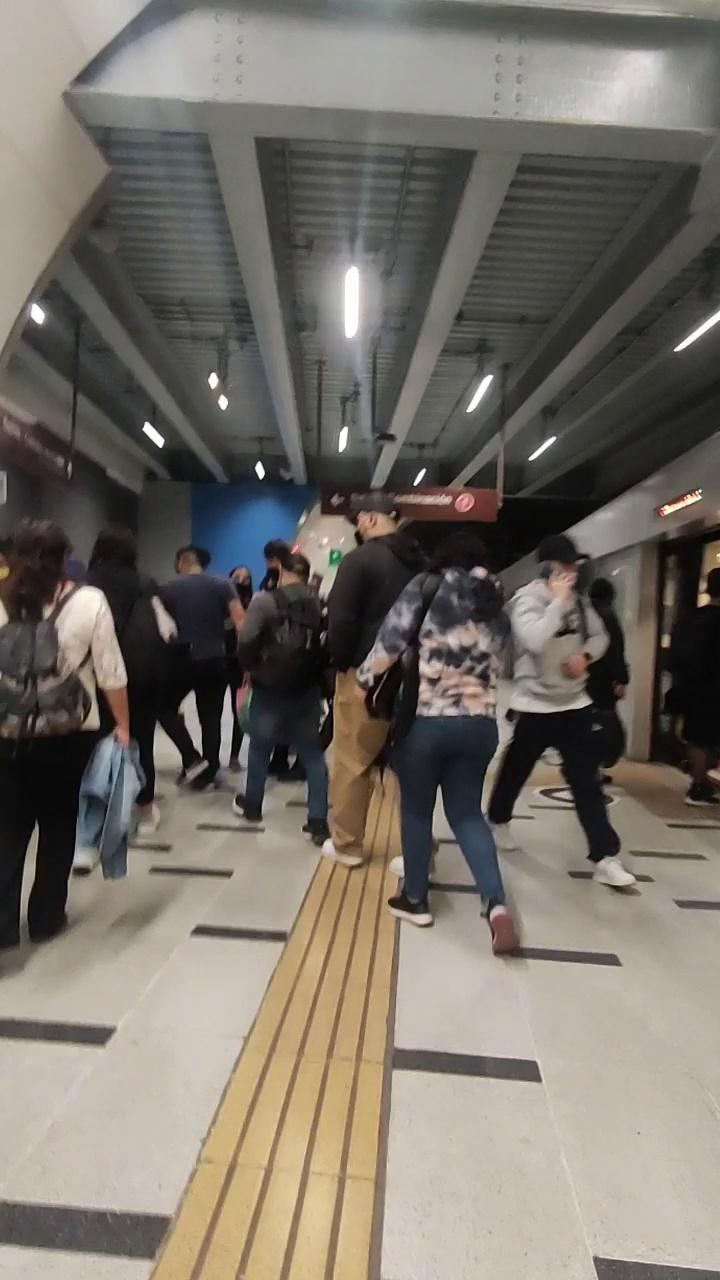left arrow: (330, 494, 346, 508)
